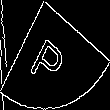P_NE: (33, 23, 77, 87)
